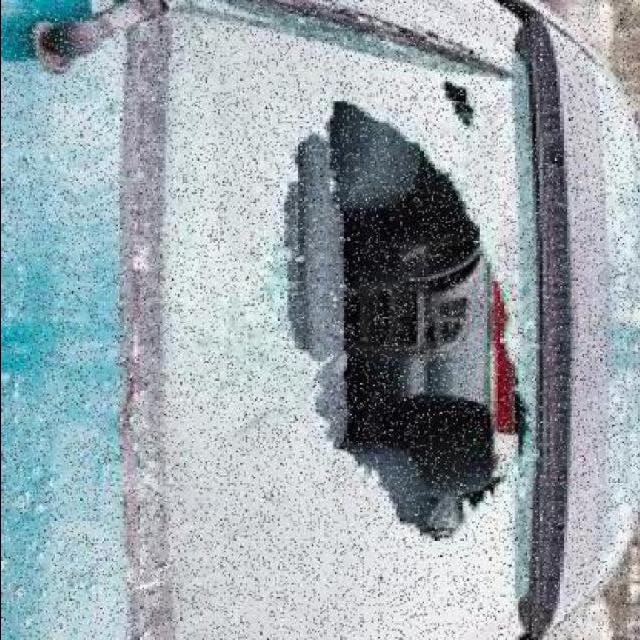Rear-windscreen-Damage: (53, 0, 571, 638)
